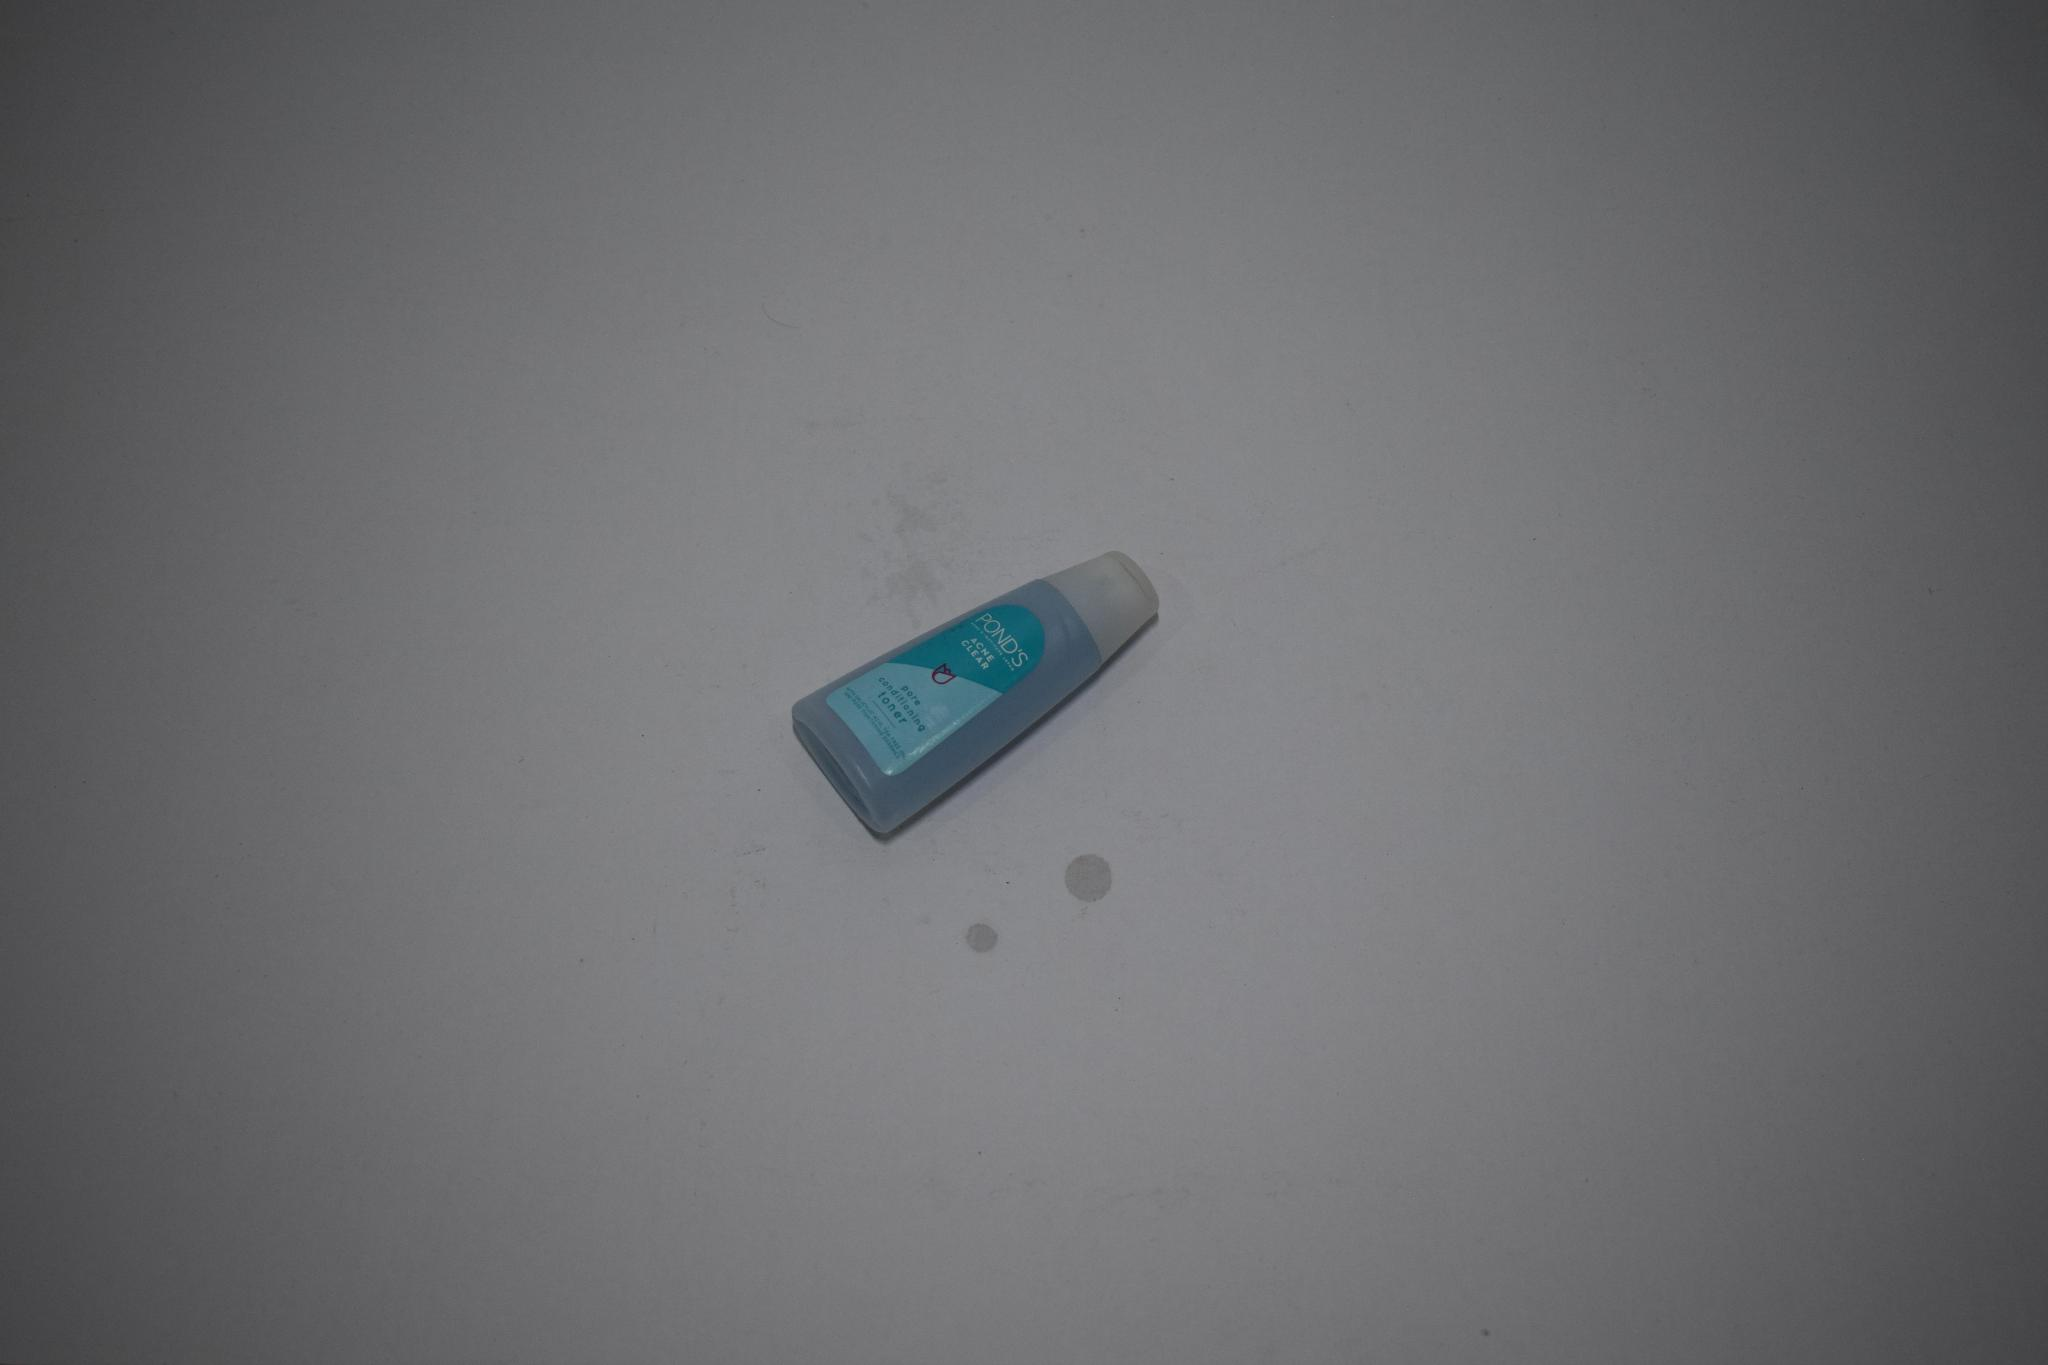bottle: (778, 504, 1172, 859)
